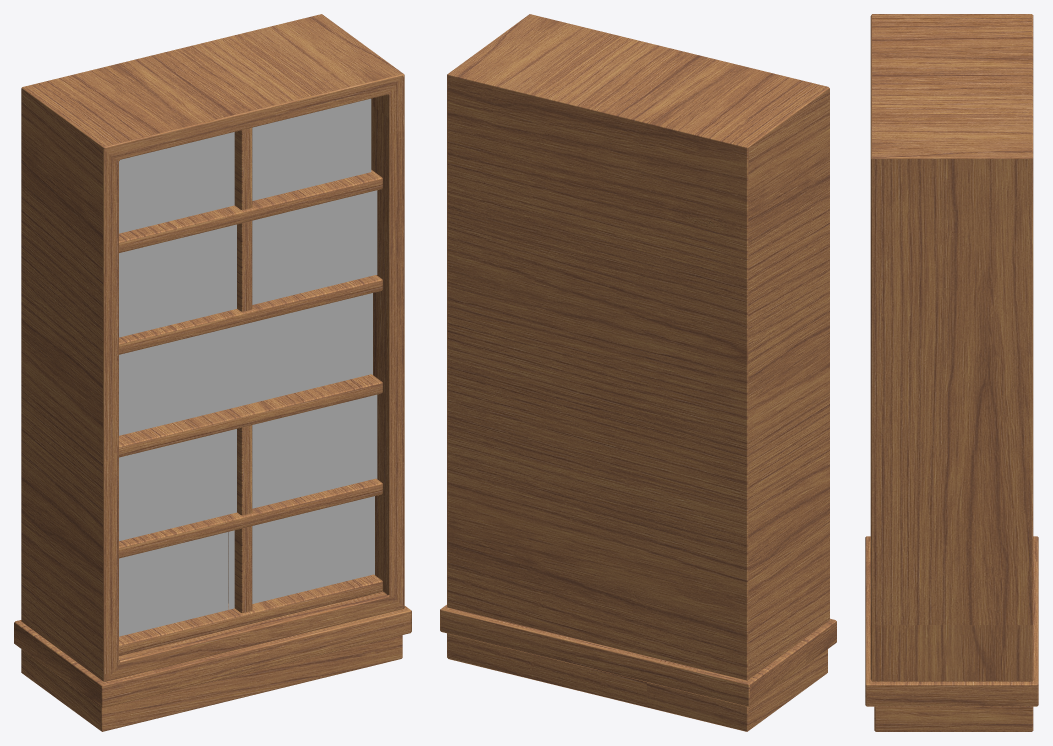
The model's file is SM_bookshelf_01.fbx.
3 renders of one model, left to right at view 1: azimuth 30°, elevation 25°; view 2: azimuth 150°, elevation 25°; view 3: azimuth 270°, elevation 25°, orthographic. The views are drawn at different scales.
Visible parts, largest first — view 1: bookshelf01; view 2: bookshelf01; view 3: bookshelf01.
Boxes of the visible parts, x1,y1,x2,y2 form: bookshelf01: [14, 14, 411, 731]; bookshelf01: [440, 14, 836, 731]; bookshelf01: [865, 14, 1038, 731].
Size of the model in its own units: 49.72 by 89.72 by 24.55.
